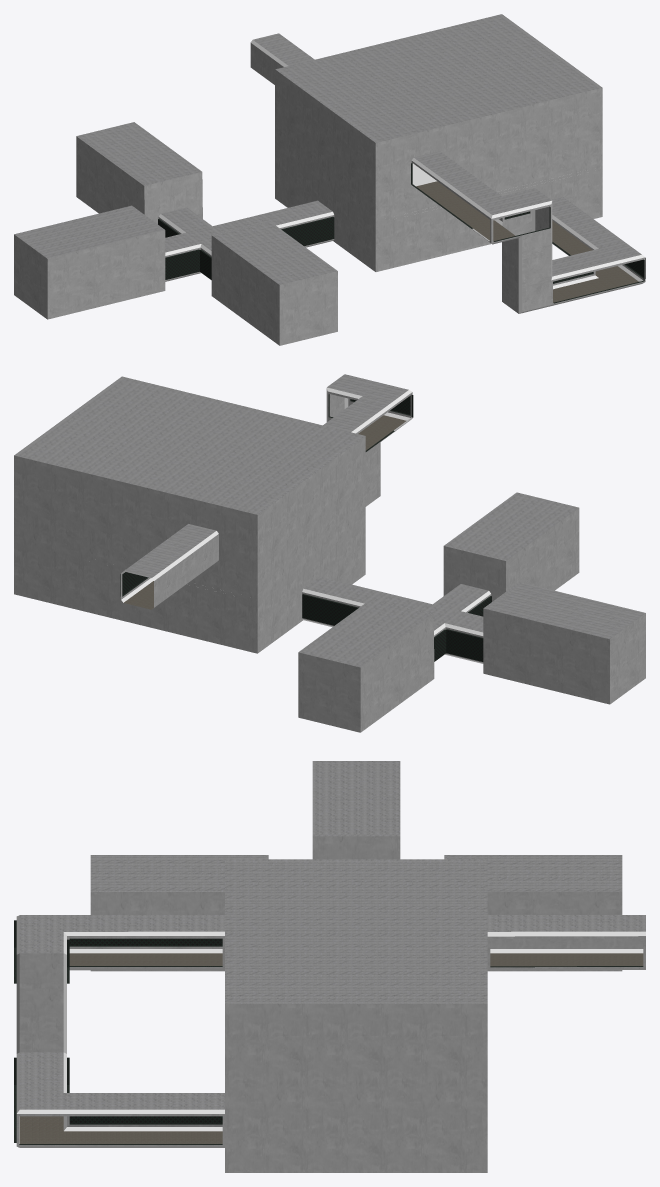
File: WallExport.fbx
The picture shows the model from 3 angles, top to bottom: view 1: azimuth 30°, elevation 25°; view 2: azimuth 150°, elevation 25°; view 3: azimuth 270°, elevation 25°; orthographic projection. The views are drawn at different scales.
Visible parts, largest first — view 1: Walls; view 2: Walls; view 3: Walls.
Part boxes in pixels (bbox=[...]): Walls: bbox=[14, 14, 645, 345]; Walls: bbox=[14, 374, 645, 732]; Walls: bbox=[14, 761, 645, 1172].
Bounding box in the file's own units: 3592 × 851 × 2887.
